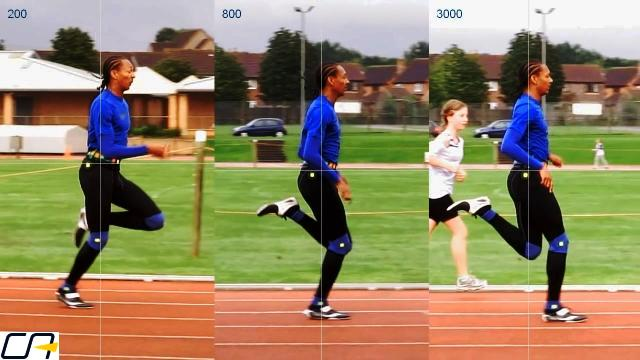berlari: (446, 50, 592, 332), (245, 56, 373, 324), (45, 46, 171, 318)
